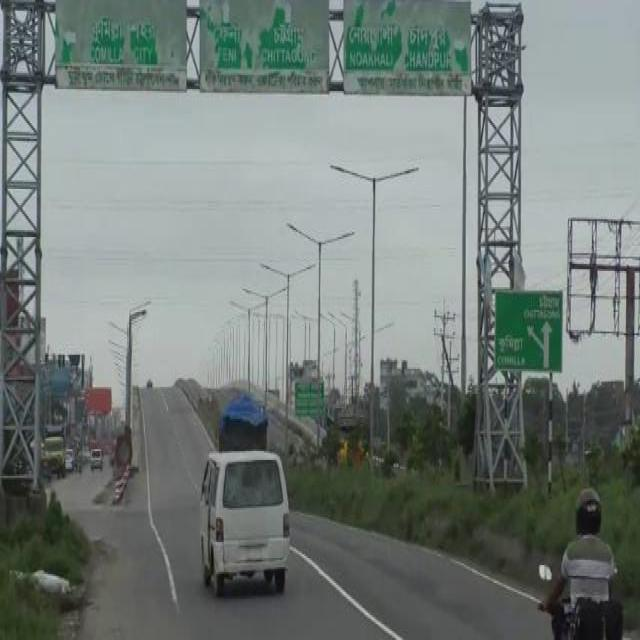motorcycle: (532, 483, 624, 637)
truck: (198, 446, 292, 599)
